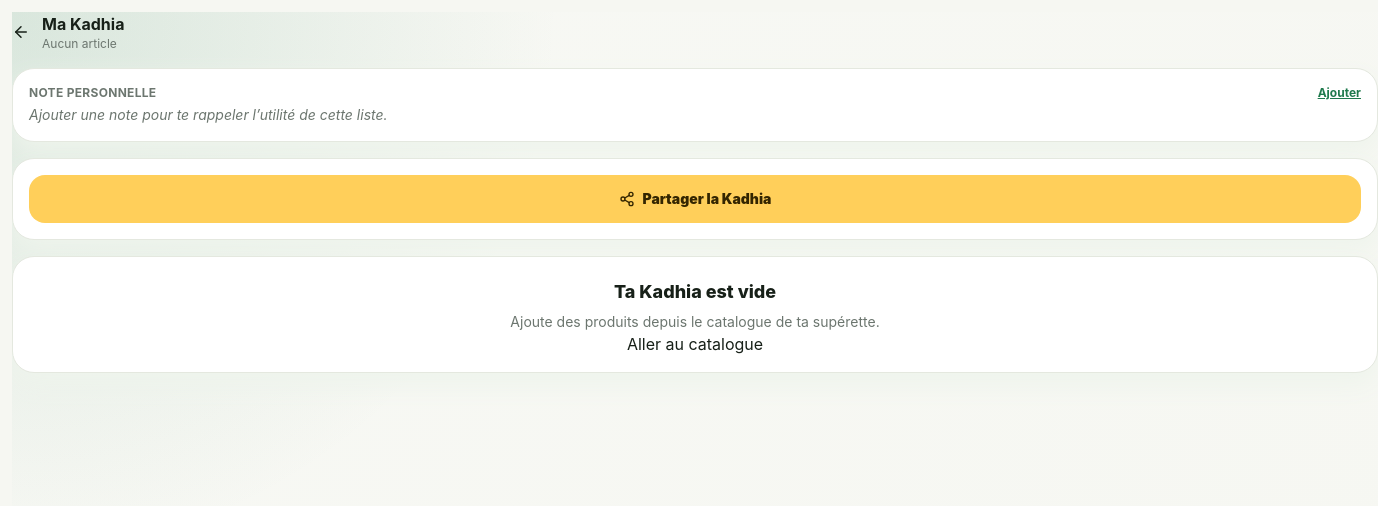
Test case: KadhiaDetailPage — note personnelle › ouvre le formulaire d'édition au clic sur Ajouter
The image size is (1378, 506).
Click the button "Ajouter": (1339, 93) top-left (1318, 85), bottom-right (1361, 101)
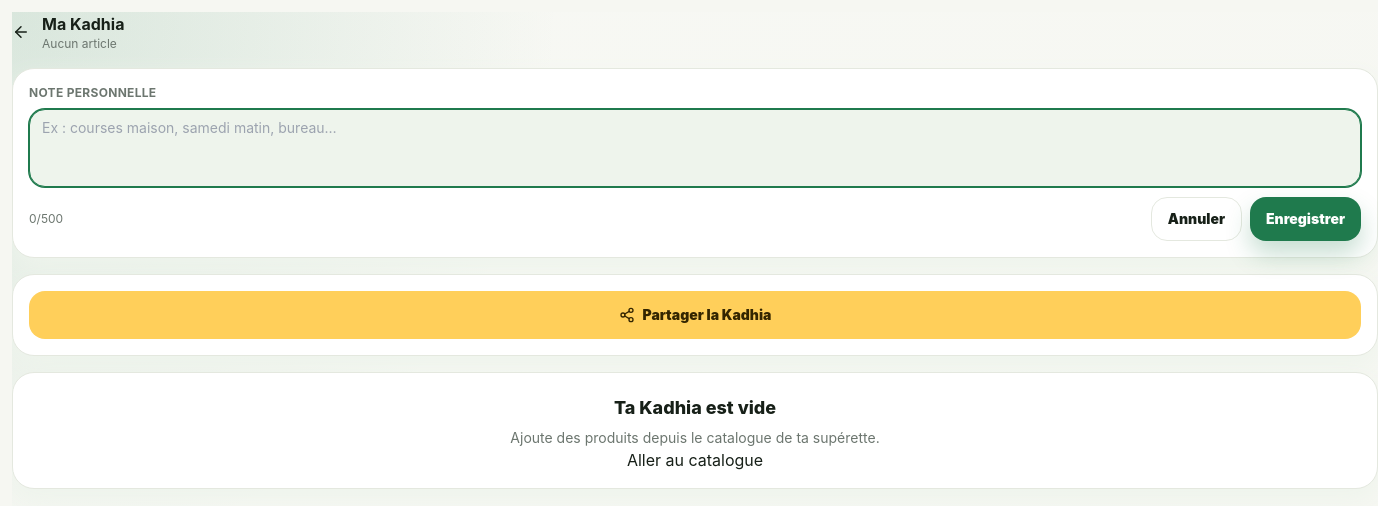
Expected: the text box with placeholder "Ex : courses maison, samedi matin, bureau…" is shown, top-left (29, 109), bottom-right (1361, 187)
Expected: the button "Enregistrer" is shown, top-left (1250, 197), bottom-right (1361, 241)
Expected: the button "Annuler" is shown, top-left (1151, 197), bottom-right (1242, 241)
